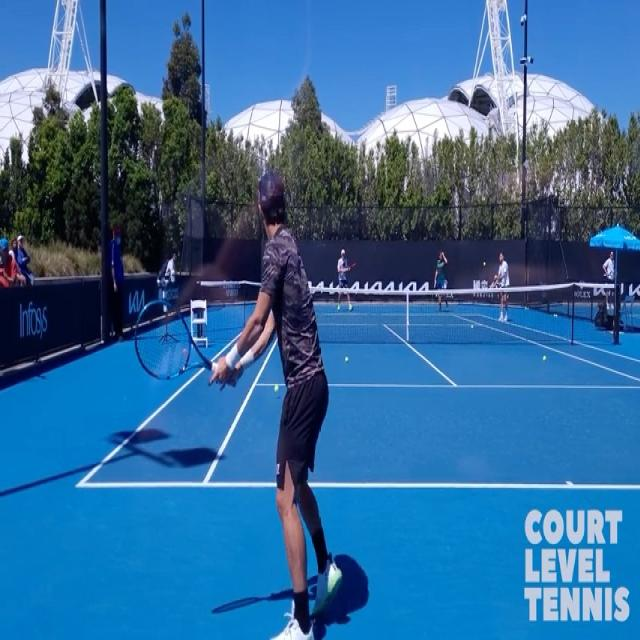backhand-ready: (133, 166, 345, 640)
